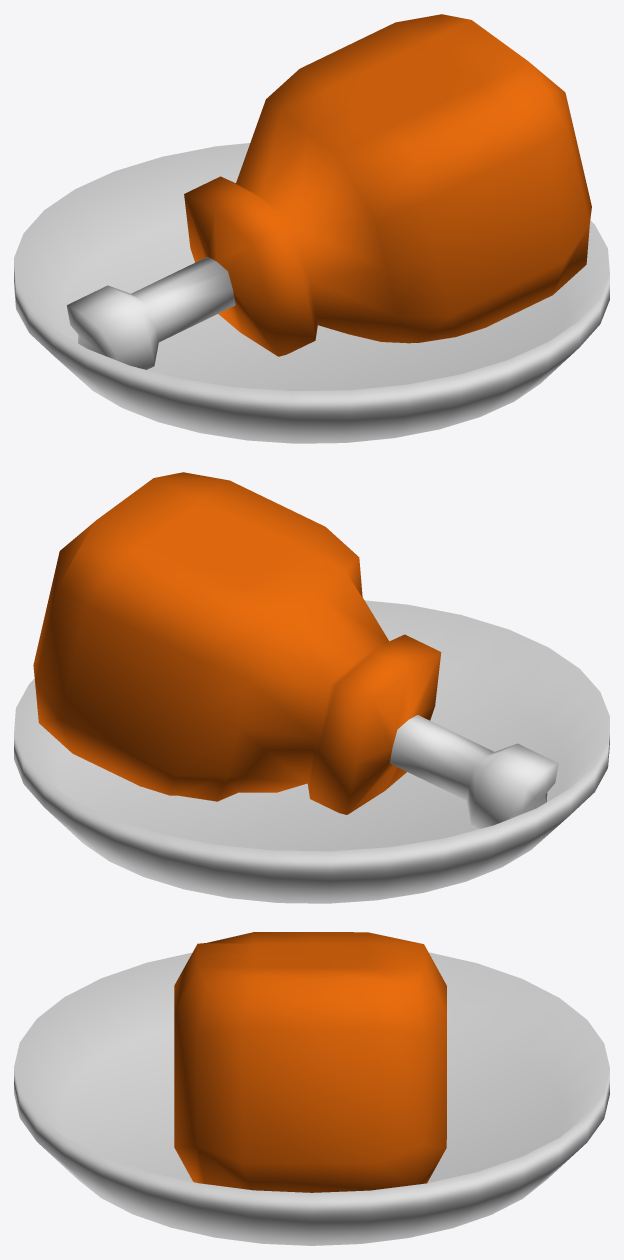
Rendered from chicken-leg.fbx.
3 views of the same model, one above another, from view 1: azimuth 30°, elevation 25°; view 2: azimuth 150°, elevation 25°; view 3: azimuth 270°, elevation 25° (orthographic).
Visible parts, largest first — view 1: Cube, Cylinder; view 2: Cube, Cylinder; view 3: Cylinder, Cube.
Boxes of the visible parts, x1,y1,x2,y2 form: Cube: [66, 14, 591, 369]; Cylinder: [14, 143, 609, 443]; Cube: [33, 472, 558, 828]; Cylinder: [14, 600, 609, 903]; Cylinder: [14, 952, 609, 1245]; Cube: [174, 932, 446, 1192].
Bounding box in the file's own units: 79.16 × 36.82 × 79.16.
